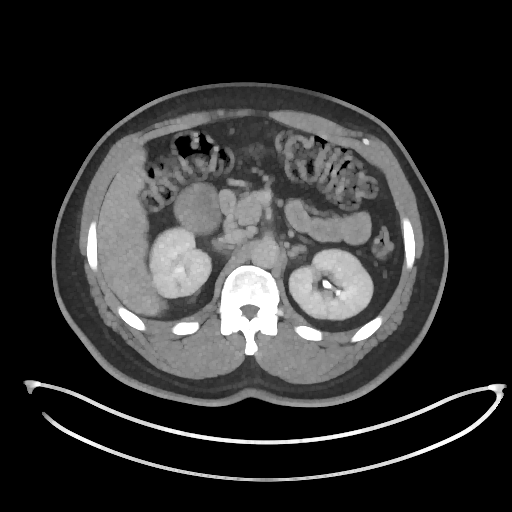Lesion: (174, 182, 224, 238)
